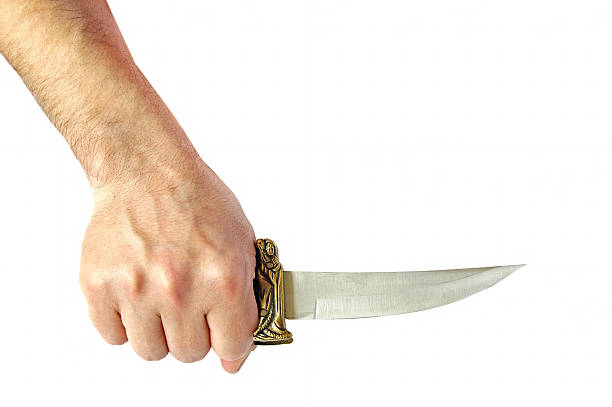knife: (280, 261, 529, 322)
